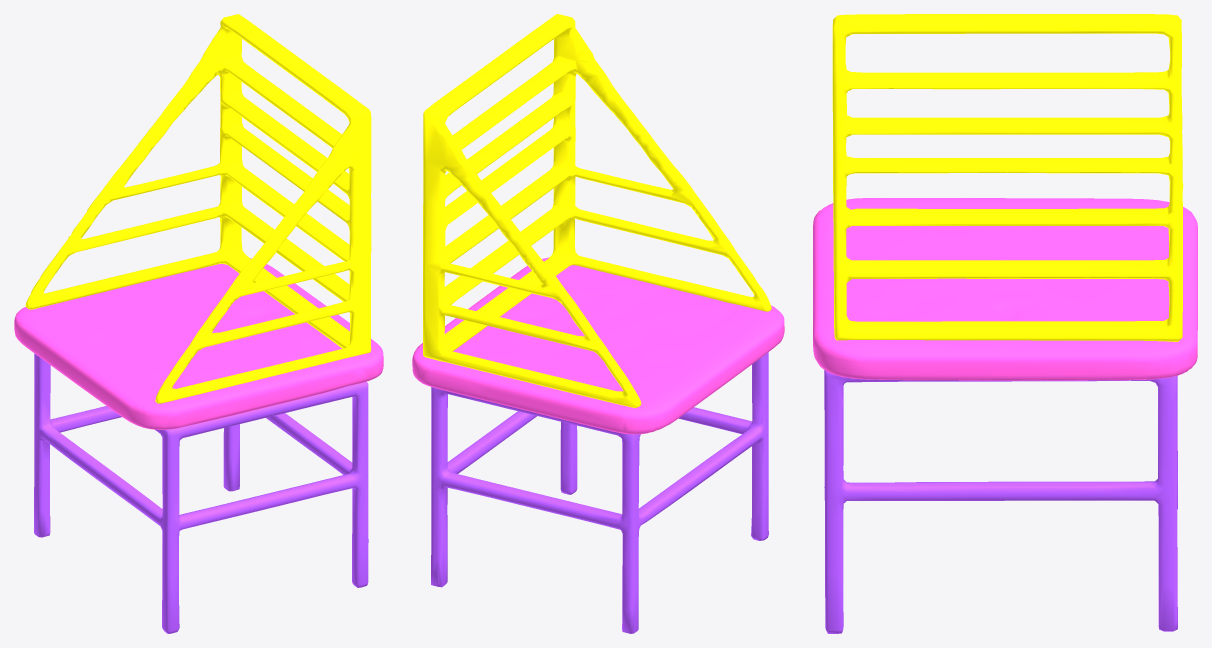
The model's file is ex1_gen1.glb.
3 renders of one model, left to right at view 1: azimuth 30°, elevation 25°; view 2: azimuth 150°, elevation 25°; view 3: azimuth 270°, elevation 25°, orthographic. The views are drawn at different scales.
Visible parts, largest first — view 1: geometry_2, geometry_1, geometry_0; view 2: geometry_2, geometry_1, geometry_0; view 3: geometry_2, geometry_1, geometry_0.
Part boxes in pixels (left/top/right/bottom): geometry_2: left=25, top=14, right=371, bottom=403; geometry_1: left=14, top=258, right=383, bottom=429; geometry_0: left=34, top=353, right=368, bottom=633; geometry_2: left=423, top=14, right=771, bottom=407; geometry_1: left=412, top=257, right=784, bottom=434; geometry_0: left=431, top=352, right=768, bottom=633; geometry_2: left=832, top=14, right=1183, bottom=341; geometry_1: left=813, top=198, right=1197, bottom=380; geometry_0: left=824, top=370, right=1177, bottom=633.
Size of the model in its own units: 0.4511 by 0.8111 by 0.4602.
